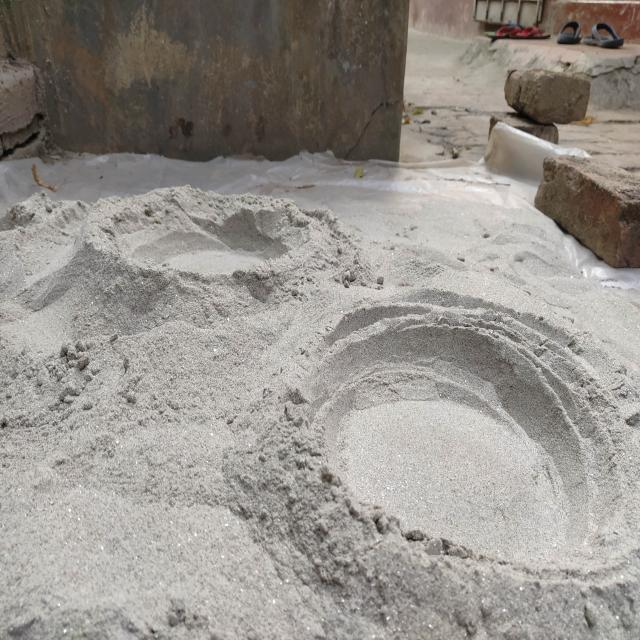C20: (305, 296, 619, 573), (91, 188, 318, 283)
